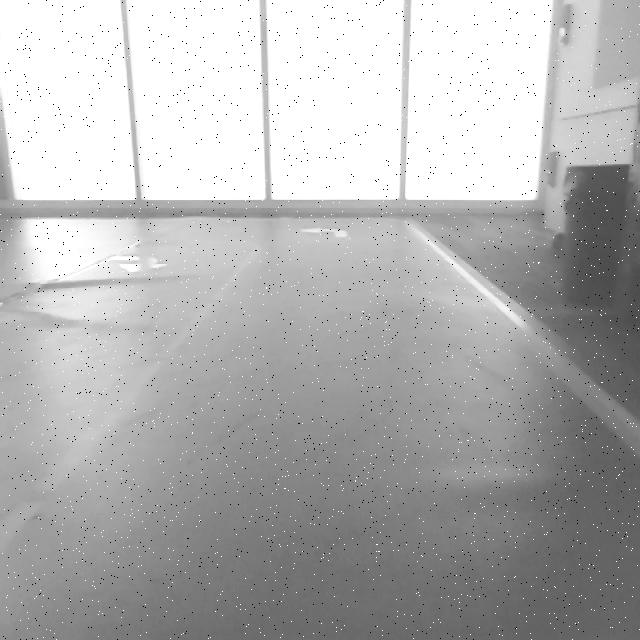left_lane: (0, 248, 255, 552)
right_lane: (412, 225, 640, 454)
